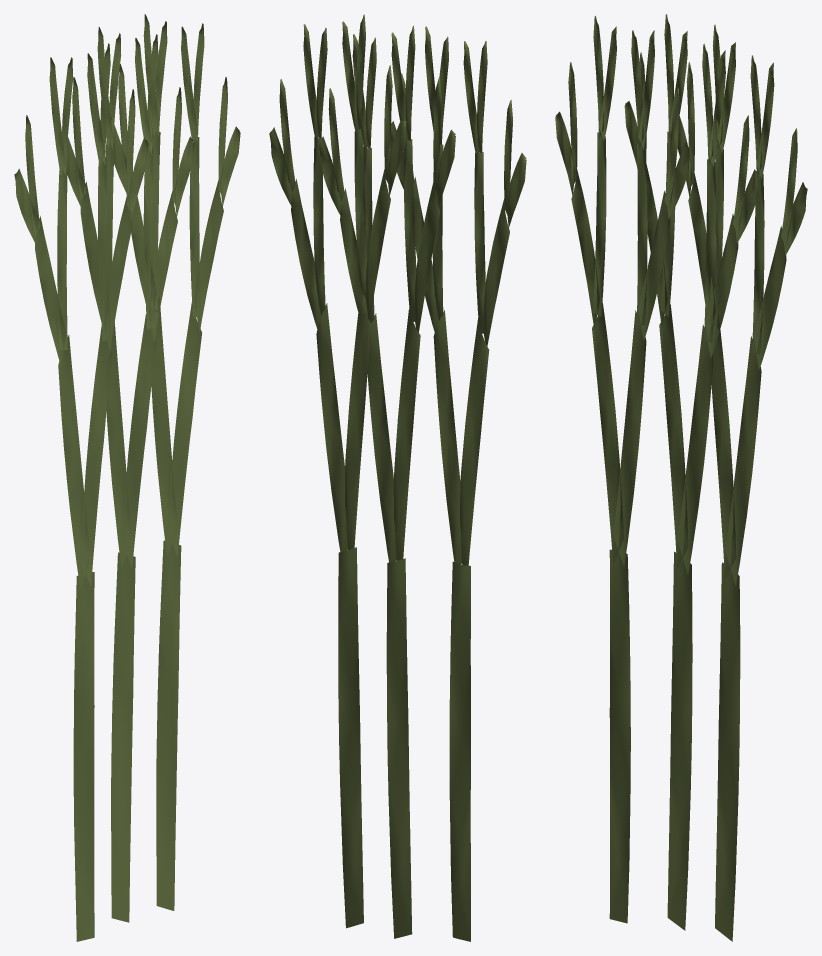
The model's file is devonian-algal-clump.glb.
3 renders of one model, left to right at view 1: azimuth 30°, elevation 25°; view 2: azimuth 150°, elevation 25°; view 3: azimuth 330°, elevation 25°, orthographic. The views are drawn at different scales.
Visible parts, largest first — view 1: devonian-algal-clump; view 2: devonian-algal-clump; view 3: devonian-algal-clump.
Part boxes in pixels (x1,y1,x2,y2): devonian-algal-clump: (14,14,240,941); devonian-algal-clump: (269,14,526,941); devonian-algal-clump: (555,14,807,941).
Bounding box in the file's own units: 0.497 × 1.8 × 0.0681.
